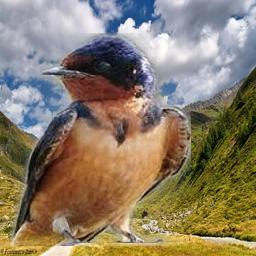Swallow: (11, 34, 192, 247)
